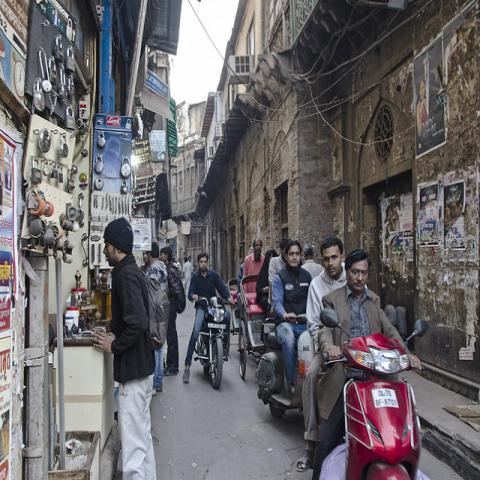motorcycle: (321, 308, 425, 475), (252, 313, 317, 417), (196, 297, 240, 385)
